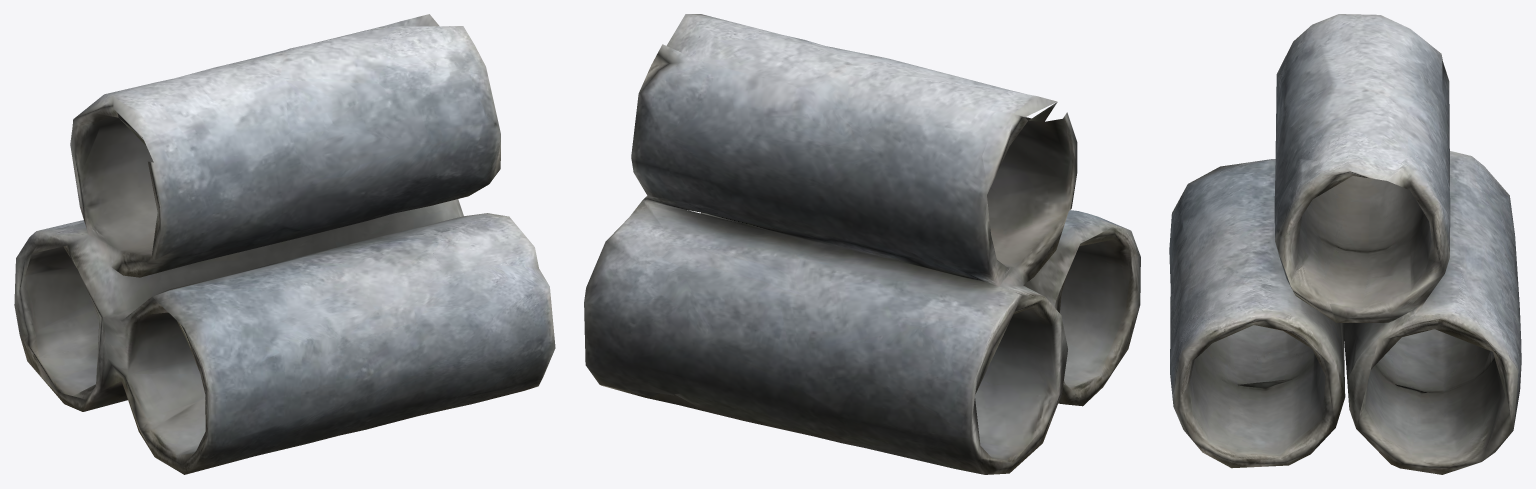
Rendered from qr_concpipes.glb.
3 views of the same model, side by side, from view 1: azimuth 30°, elevation 25°; view 2: azimuth 150°, elevation 25°; view 3: azimuth 270°, elevation 25° (orthographic). The views are drawn at different scales.
Parts seen in each view (by area): view 1: tripo_node_6baac28f-d717-4a5f-93b6-8542f566b449; view 2: tripo_node_6baac28f-d717-4a5f-93b6-8542f566b449; view 3: tripo_node_6baac28f-d717-4a5f-93b6-8542f566b449.
Part boxes in pixels (x1=…): tripo_node_6baac28f-d717-4a5f-93b6-8542f566b449: x1=14, y1=14, x2=555, y2=474; tripo_node_6baac28f-d717-4a5f-93b6-8542f566b449: x1=584, y1=14, x2=1140, y2=474; tripo_node_6baac28f-d717-4a5f-93b6-8542f566b449: x1=1169, y1=14, x2=1521, y2=474.
Size of the model in its own units: 1 by 0.8239 by 0.8596.
1 material, 1 textured.
